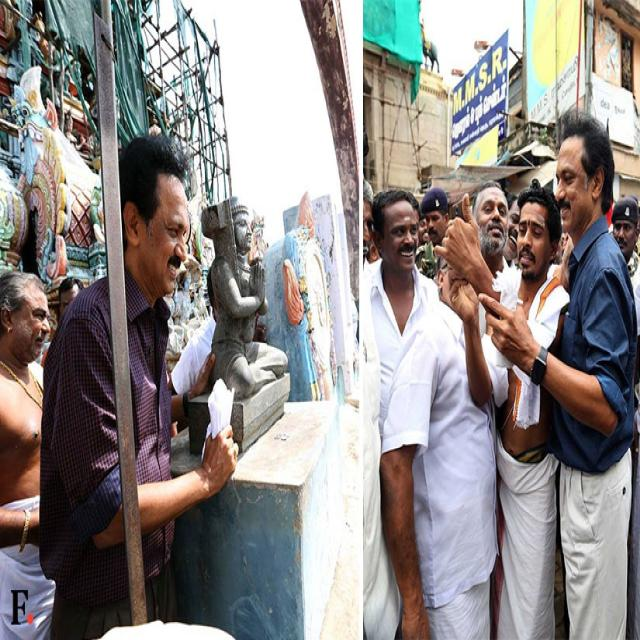body: (39, 134, 240, 639), (476, 112, 638, 638), (433, 182, 569, 640), (378, 253, 500, 640), (352, 164, 640, 274), (2, 3, 106, 270), (193, 201, 297, 408), (0, 270, 57, 640), (362, 187, 442, 445), (362, 175, 402, 639), (609, 195, 640, 605), (166, 262, 219, 403), (471, 176, 510, 278), (413, 184, 450, 282), (500, 189, 526, 269), (54, 275, 86, 323)
